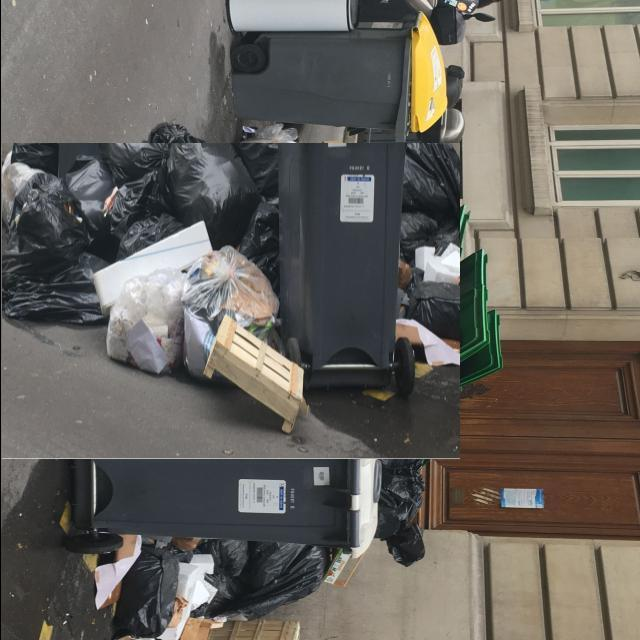Trashbag: (168, 141, 270, 219), (4, 176, 80, 261), (9, 265, 103, 323), (408, 138, 476, 212), (89, 176, 173, 219), (415, 281, 464, 340), (71, 157, 108, 233), (110, 139, 169, 177), (247, 212, 290, 264), (405, 210, 438, 256), (114, 218, 166, 245)
